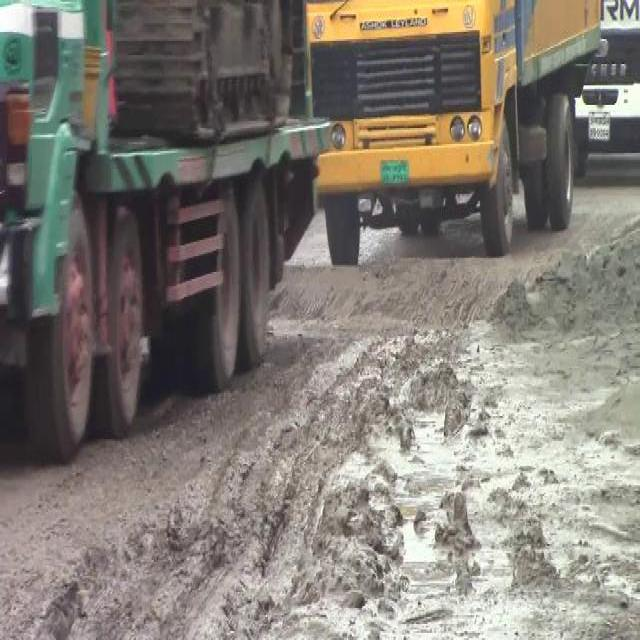truck: (2, 0, 331, 459), (311, 2, 601, 263)
